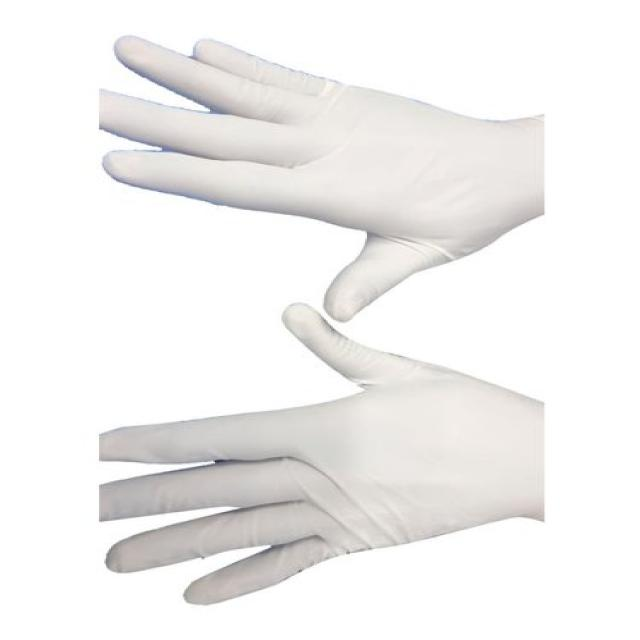Gloves: (80, 18, 543, 311), (75, 319, 543, 608)
